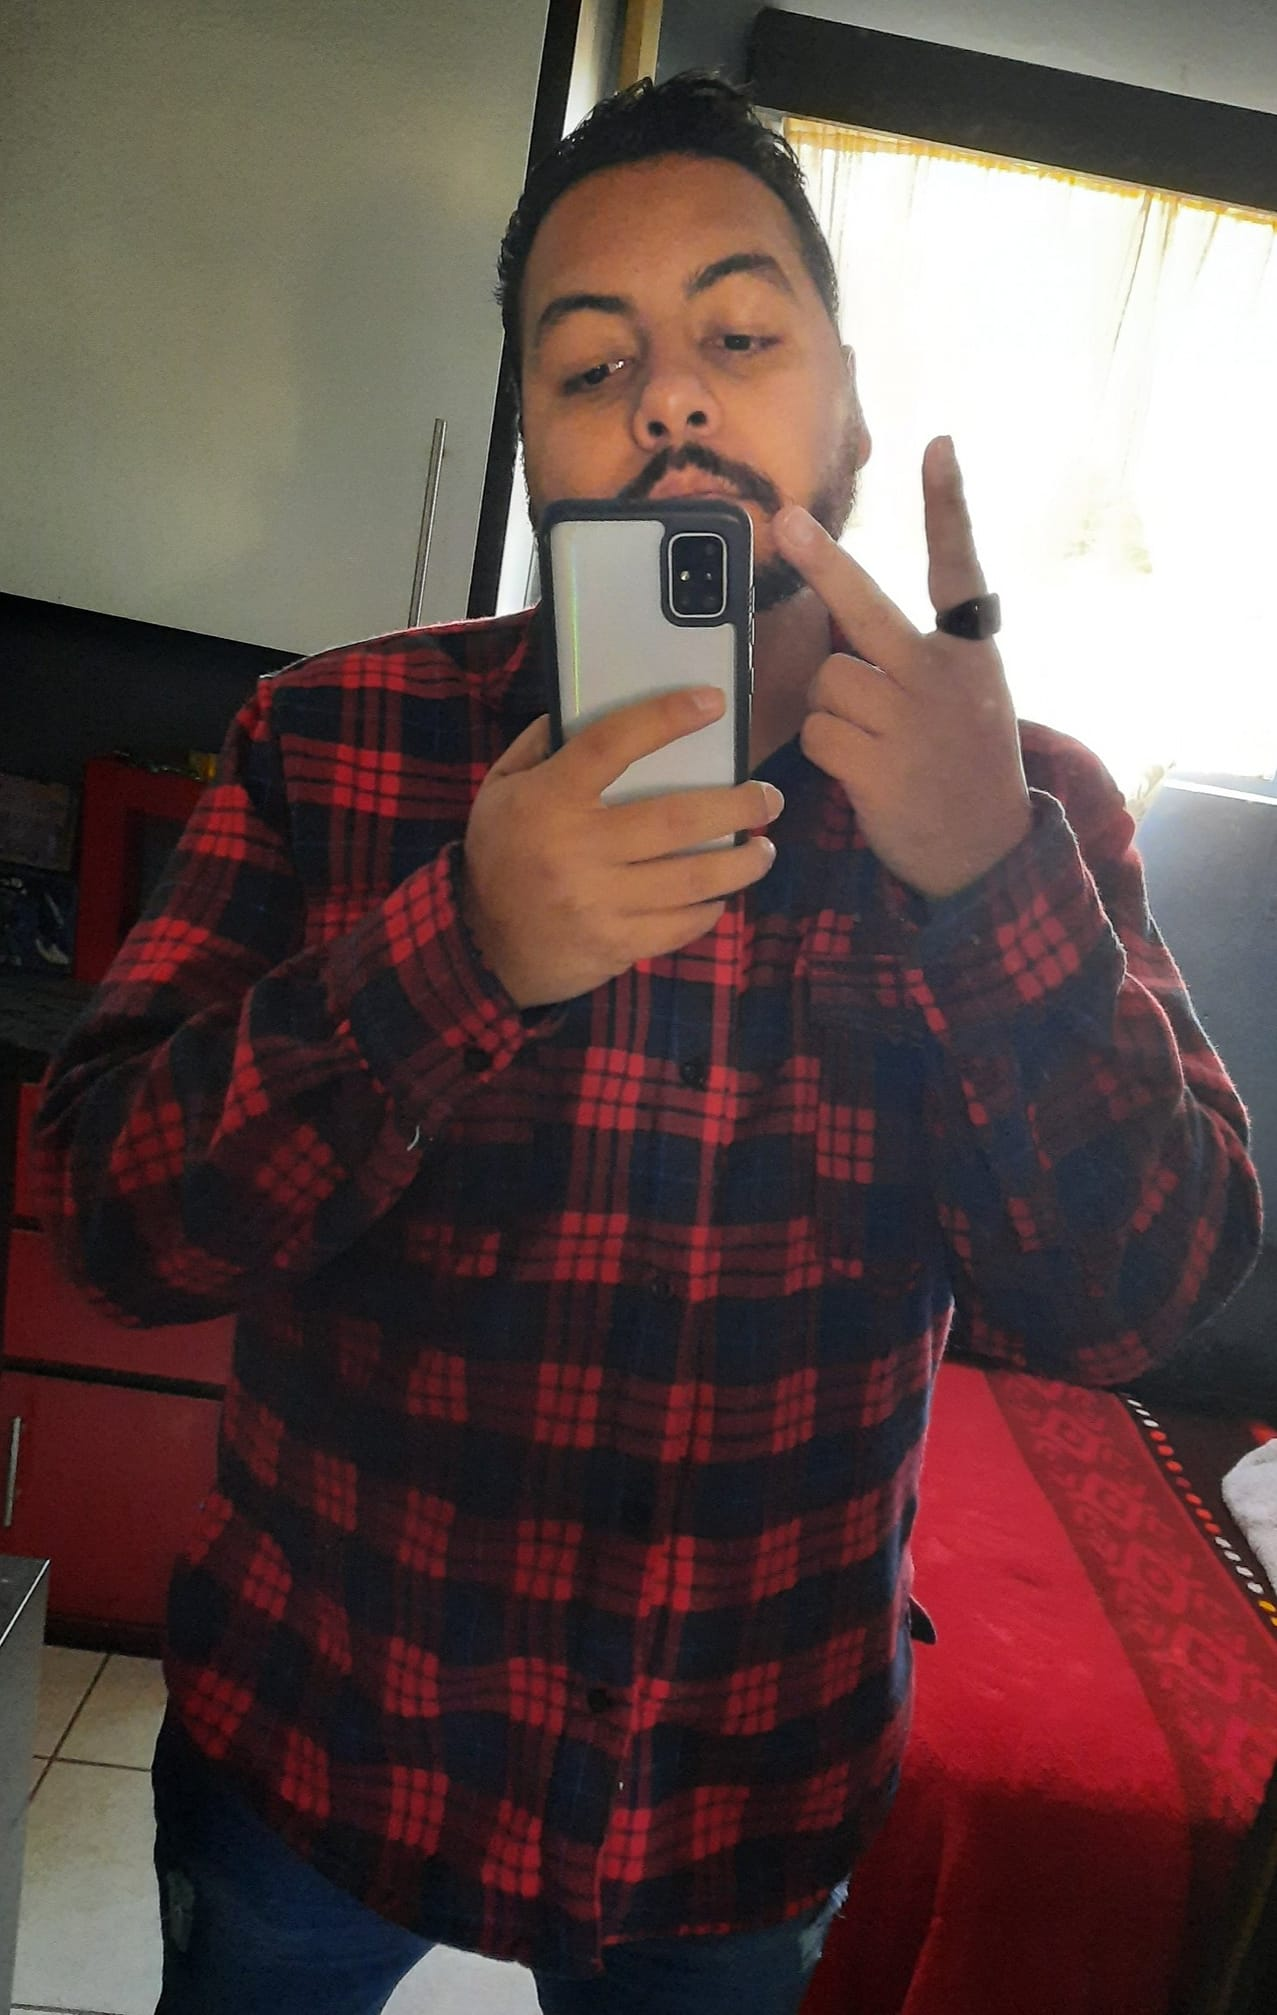Yoshi: (128, 57, 1277, 1504)
